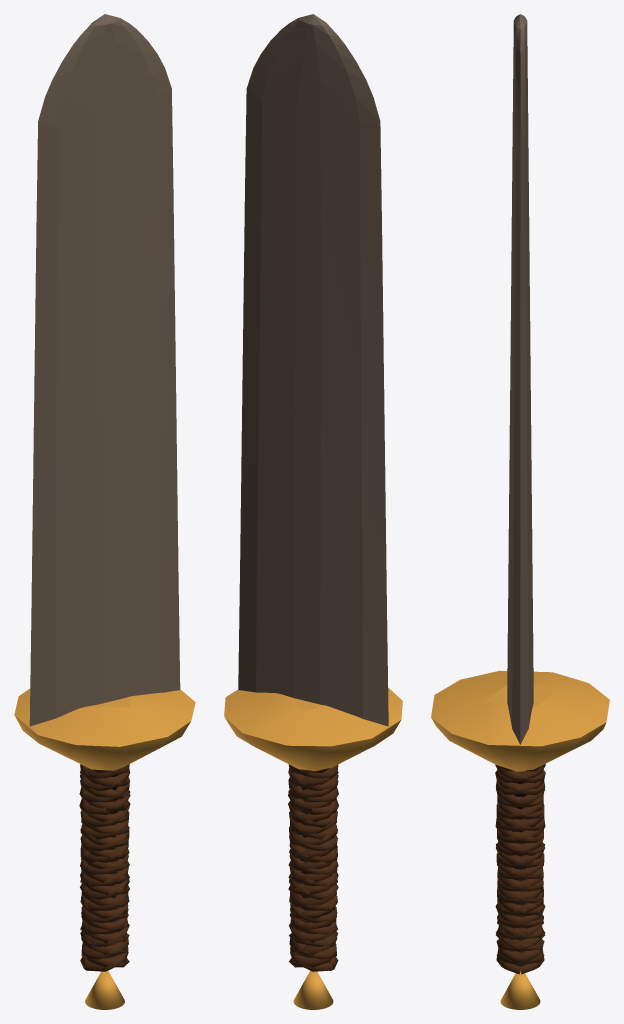
File: chuong-lua-van-nien.glb
3 renders of one model, left to right at view 1: azimuth 30°, elevation 25°; view 2: azimuth 150°, elevation 25°; view 3: azimuth 270°, elevation 25°, orthographic.
Visible parts, largest first — view 1: blade, wrap, guard, pommel; view 2: blade, wrap, guard, pommel; view 3: blade, guard, wrap, pommel.
Boxes of the visible parts, <box> form: blade: <box>29,14,180,726</box>; wrap: <box>79,764,130,971</box>; guard: <box>14,688,195,770</box>; pommel: <box>85,971,124,1009</box>; blade: <box>238,14,388,726</box>; wrap: <box>288,764,338,971</box>; guard: <box>224,687,402,771</box>; pommel: <box>293,971,333,1009</box>; blade: <box>507,14,533,744</box>; guard: <box>431,670,609,771</box>; wrap: <box>495,764,545,974</box>; pommel: <box>500,971,540,1009</box>.
Size of the model in its own units: 0.2685 by 1.64 by 0.2685.
